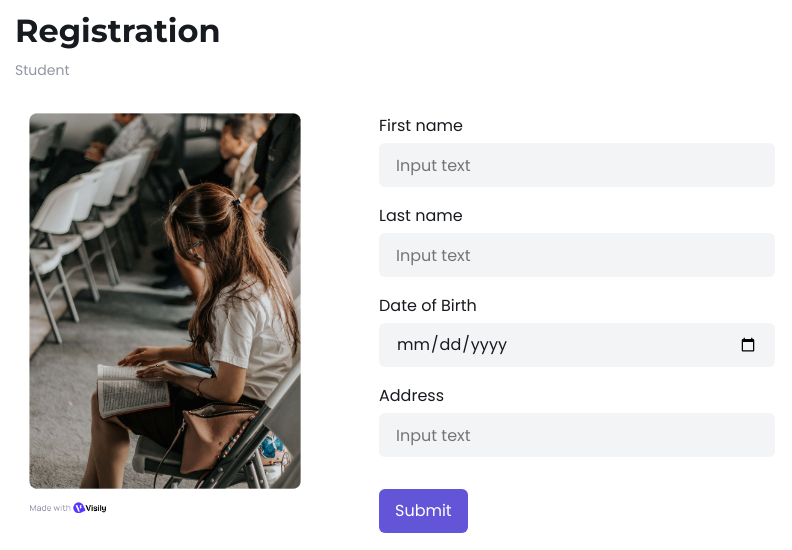
Test: Registration success flow › shows the success screen after a successful student registration
Step 1. Type "Test" into the field labelled "First name" → [577, 165], box [379,143,775,187]
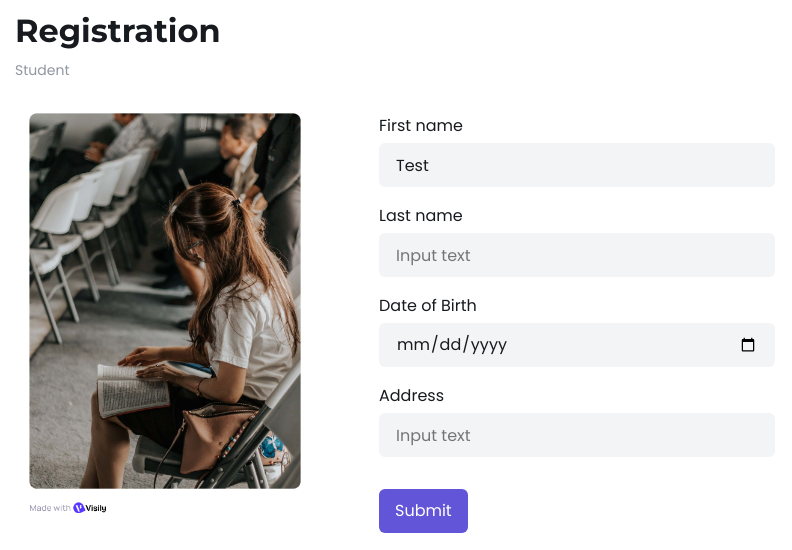
Step 2. Type "Trainee" into the field labelled "Last name" → [577, 255], box [379,233,775,277]
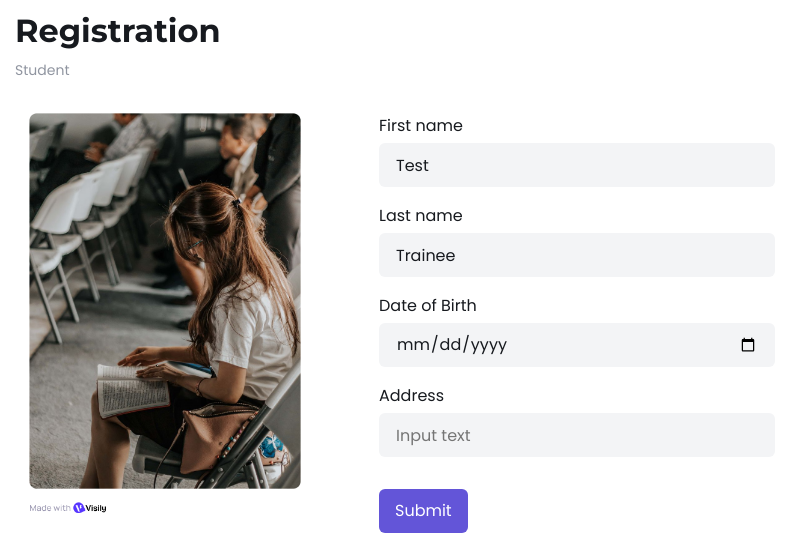
Step 3. Type "2000-01-01" into the date field labelled "Date of Birth" → [577, 345], box [379,323,775,367]
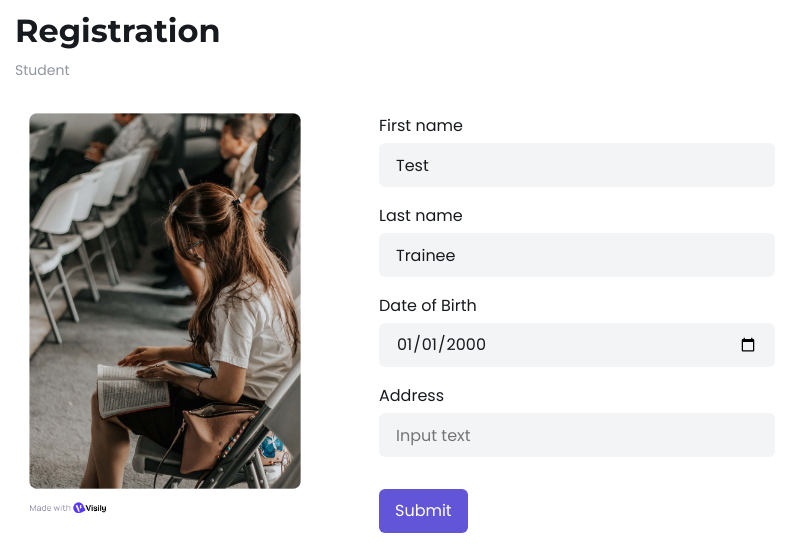
Step 4. Type "123 Main St" into the field labelled "Address" → [577, 435], box [379,413,775,457]
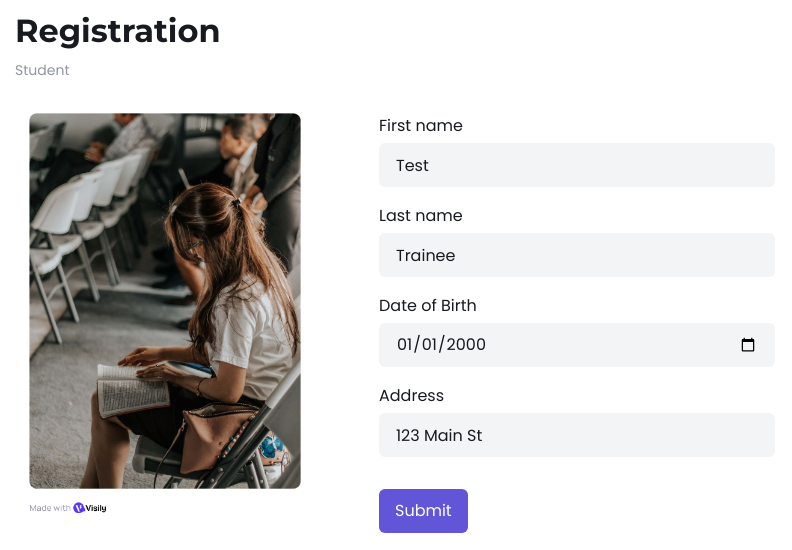
Step 5. Click the button "Submit" → [423, 511], box [379,489,468,533]
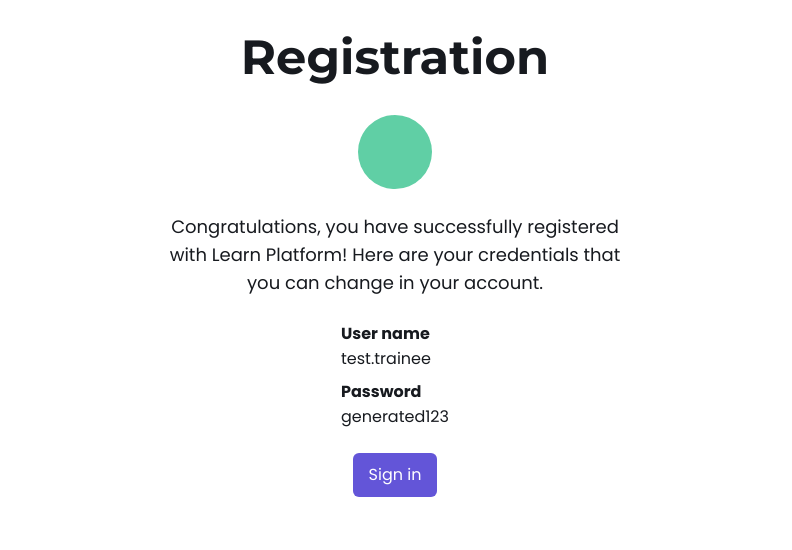
expect the text "test.trainee" is shown: met, box [341,347,431,370]
